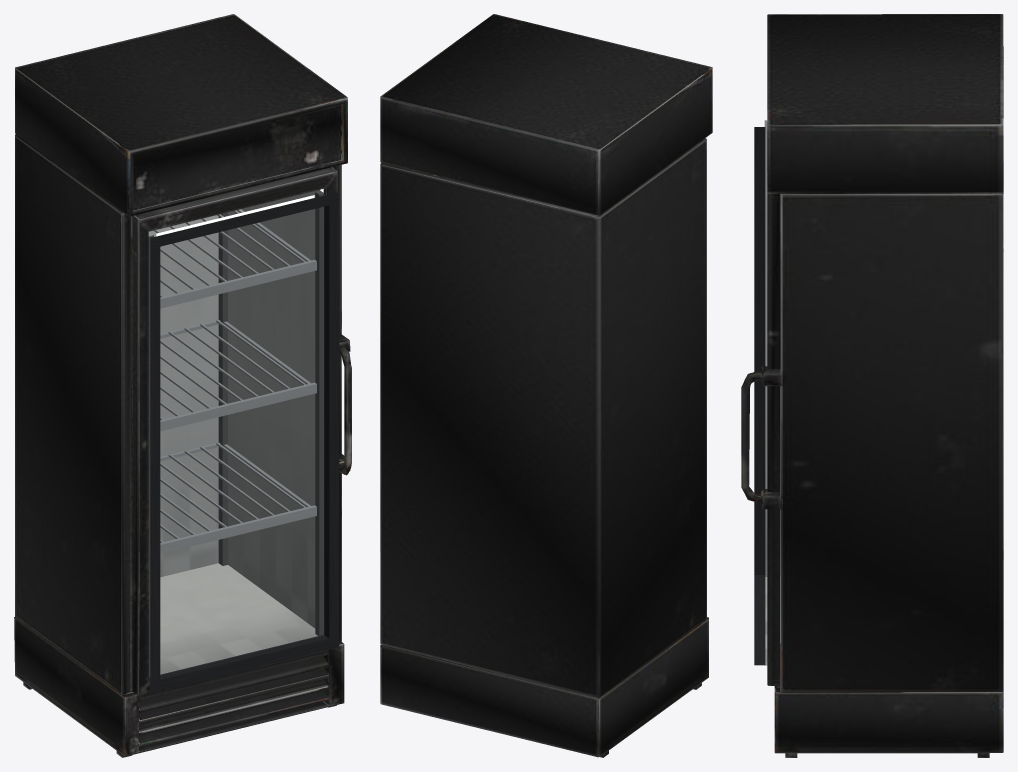
Rendered from shop-cooler-open-t25r1.glb.
3 renders of one model, left to right at view 1: azimuth 30°, elevation 25°; view 2: azimuth 150°, elevation 25°; view 3: azimuth 270°, elevation 25°, orthographic. The views are drawn at different scales.
Visible parts, largest first — view 1: body, interior, glass; view 2: body; view 3: body, interior.
Boxes of the visible parts, bbox=[...] form: body: bbox=[14, 14, 351, 757]; interior: bbox=[145, 190, 339, 693]; glass: bbox=[161, 207, 324, 674]; body: bbox=[380, 14, 712, 757]; body: bbox=[741, 14, 1003, 757]; interior: bbox=[754, 120, 767, 665].
Bounding box in the file's own units: 0.75 × 2 × 0.75.
3 materials, 2 textured.
